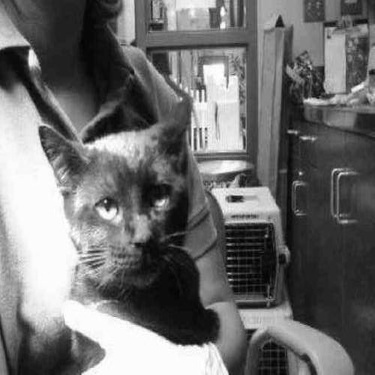cat: (5, 92, 225, 345)
